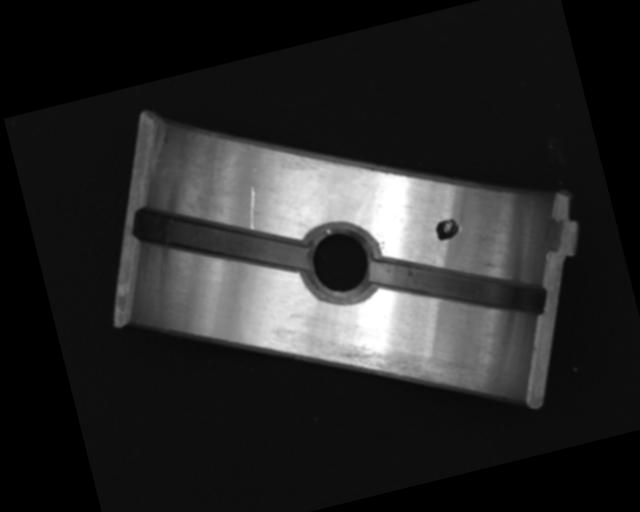blot: (432, 216, 464, 242)
gap: (132, 173, 310, 307), (367, 222, 549, 350)
hole: (296, 214, 386, 312)
nick: (241, 185, 264, 231)
scratch: (315, 317, 475, 424)
